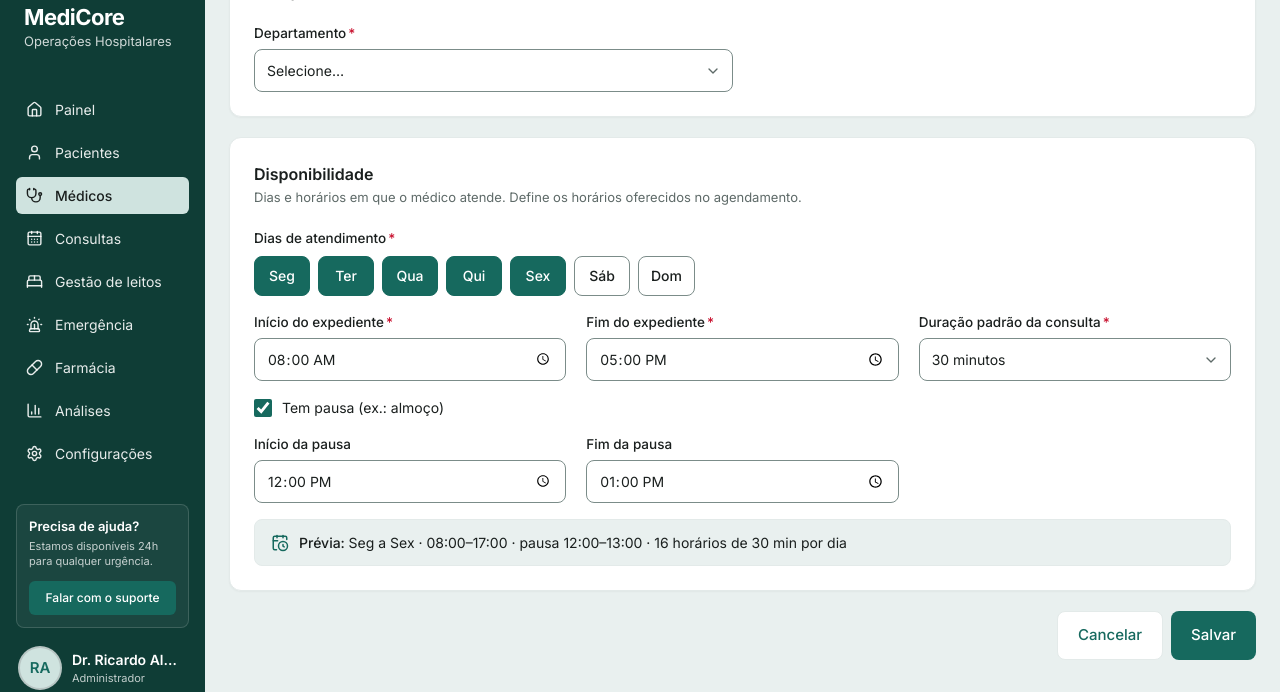
Cadastro (P6) › prévia em tempo real, com e sem pausa
(page scrolled)
Expected: the text "Seg a Sex · 08:00–17:00 · pausa 12:00–13:00 · 16 horários de 30 min por dia" is shown, [349, 534, 847, 551]
Click the checkbox labelled "Tem pausa (ex.: almoço)".
click(263, 408)  # box [254, 399, 272, 417]
(page scrolled)
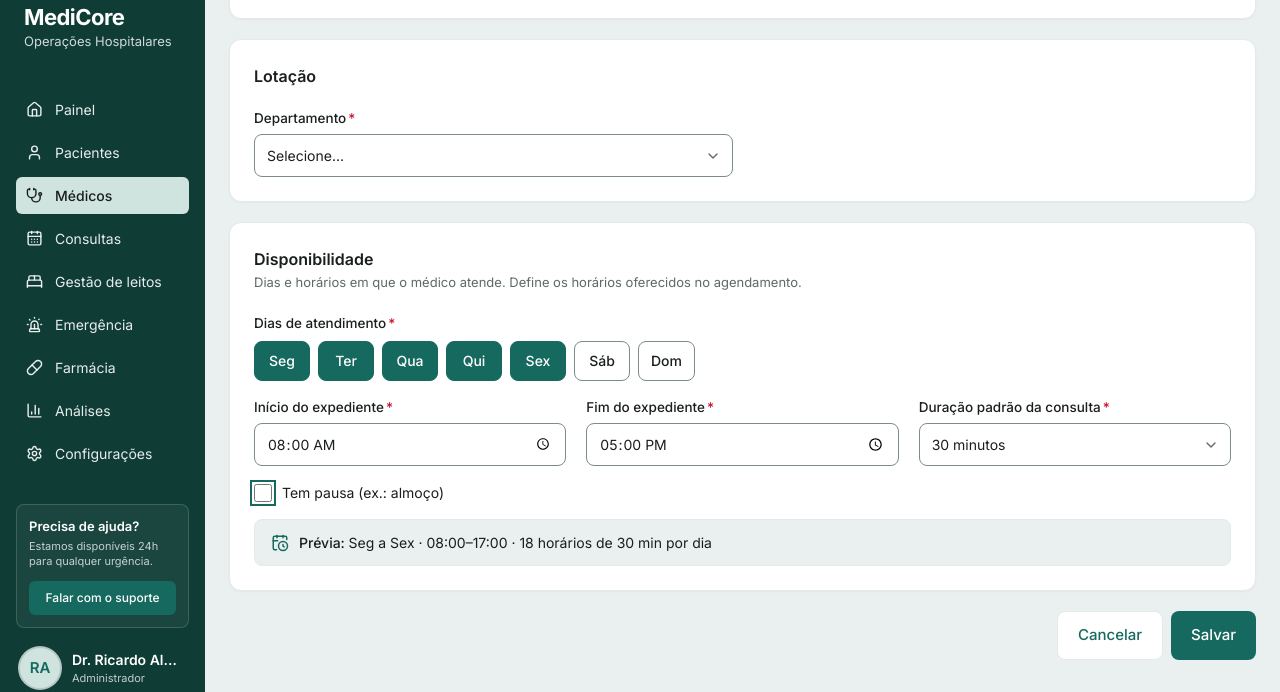
Result: the text "Seg a Sex · 08:00–17:00 · 18 horários de 30 min por dia" is shown at [349, 534, 712, 551]
Click the button with aria-label "Sex, sexta-feira".
click(538, 361)  # box [510, 341, 566, 381]
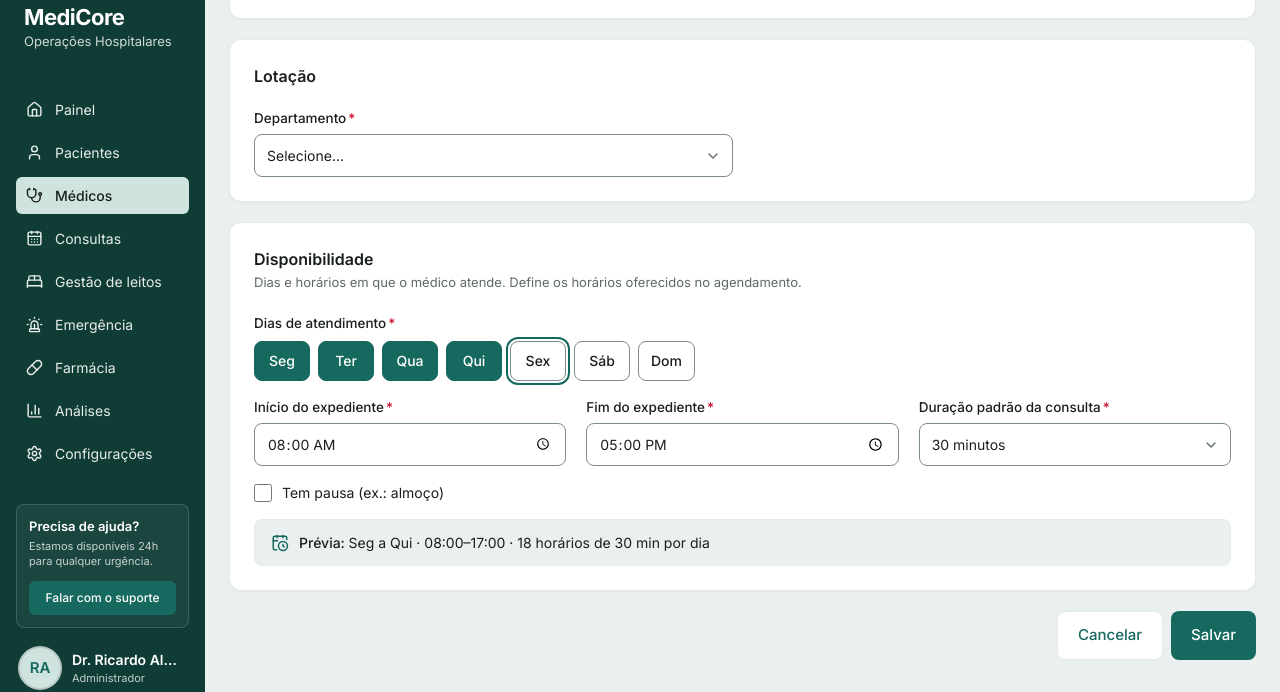
Select "60 minutos" in the dropdown labelled "Duração padrão da consulta*" at (1075, 444), box [919, 423, 1231, 466]
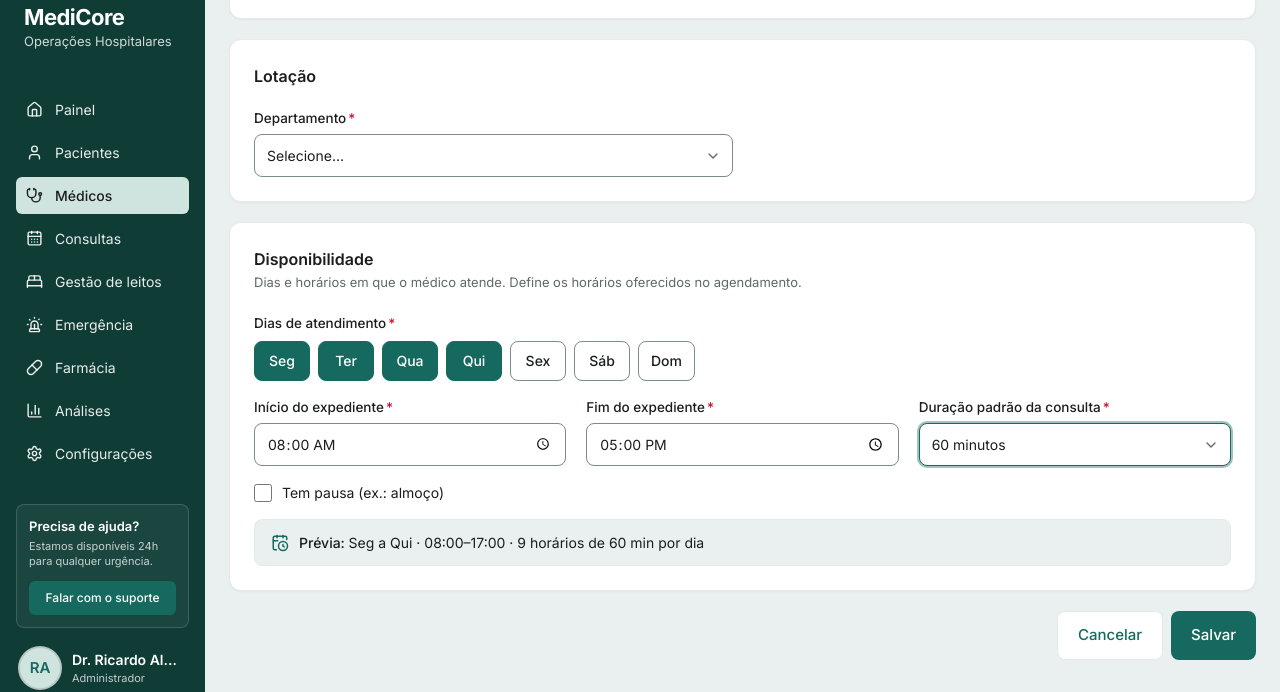
Result: the text "Seg a Qui · 08:00–17:00 · 9 horários de 60 min por dia" is shown at [349, 534, 704, 551]
